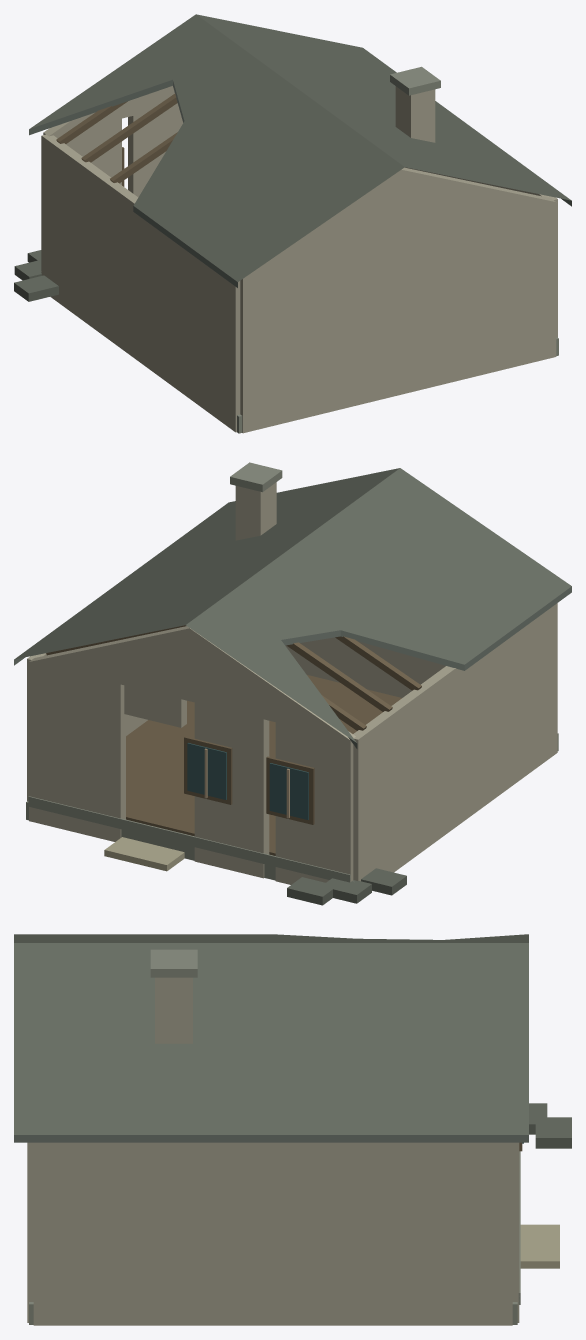
File: ua_valley_house.obj
3 renders of one model, top to bottom at view 1: azimuth 30°, elevation 25°; view 2: azimuth 150°, elevation 25°; view 3: azimuth 270°, elevation 25°, orthographic. The views are drawn at different scales.
Parts seen in each view (by area): view 1: ua_valley_house; view 2: ua_valley_house; view 3: ua_valley_house.
Boxes of the visible parts, <box> form: ua_valley_house: <box>14,14,571,433</box>; ua_valley_house: <box>14,462,571,905</box>; ua_valley_house: <box>14,934,571,1325</box>.
Size of the model in its own units: 6.18 by 4.21 by 6.76.
